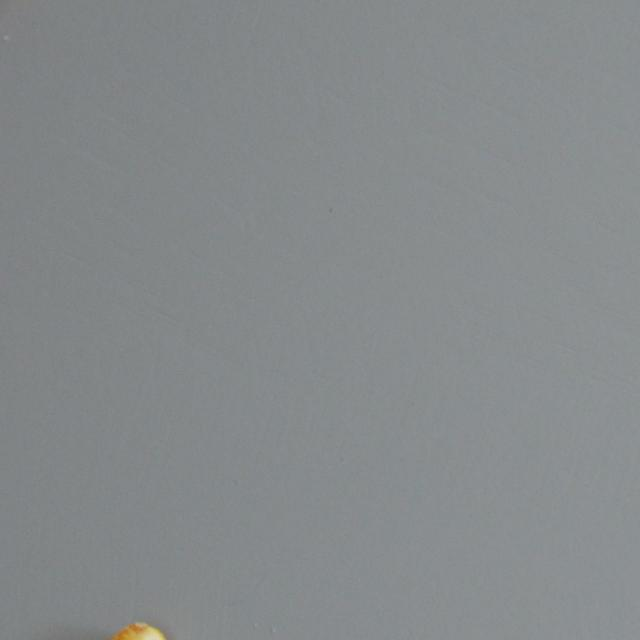pelicula: (54, 622, 176, 640)
